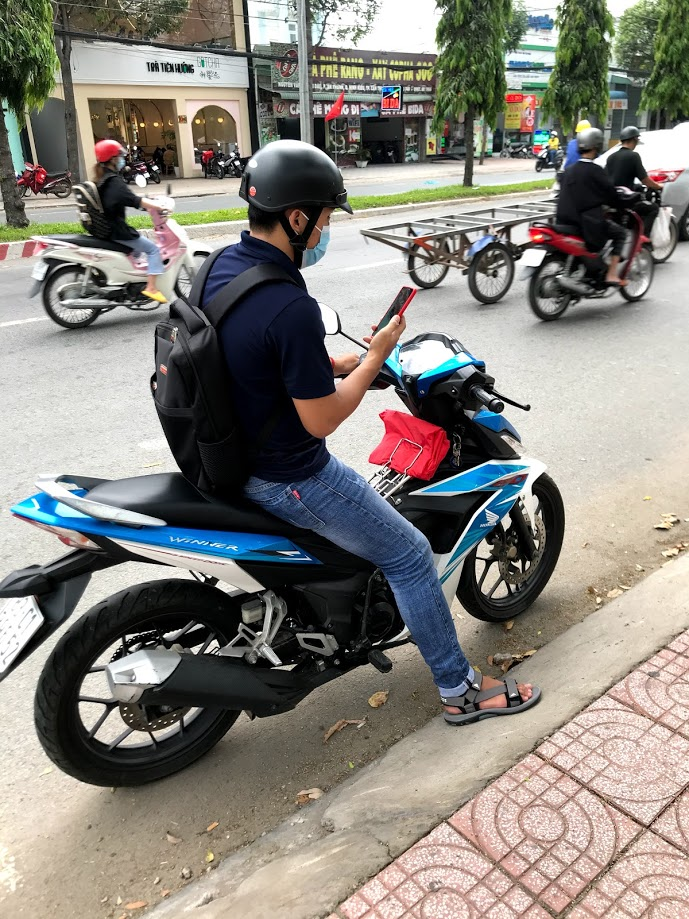dieu khien xe may: (233, 135, 531, 612)
su dung dien thoai: (238, 141, 417, 365)
